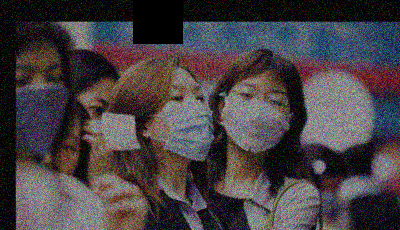with_mask: (16, 60, 69, 158), (224, 80, 291, 155), (149, 83, 213, 159)
